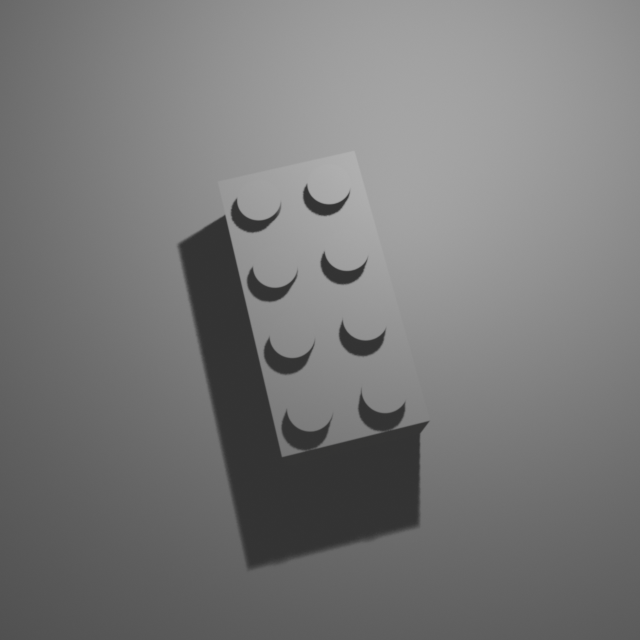lego_2x4: (216, 144, 432, 467)
